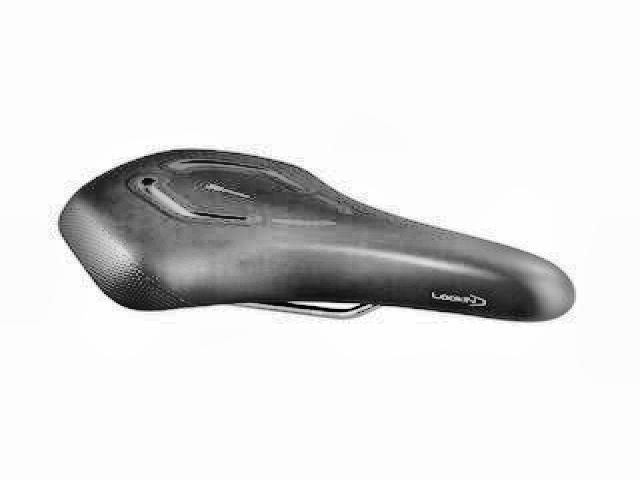saddle: (58, 144, 578, 332)
